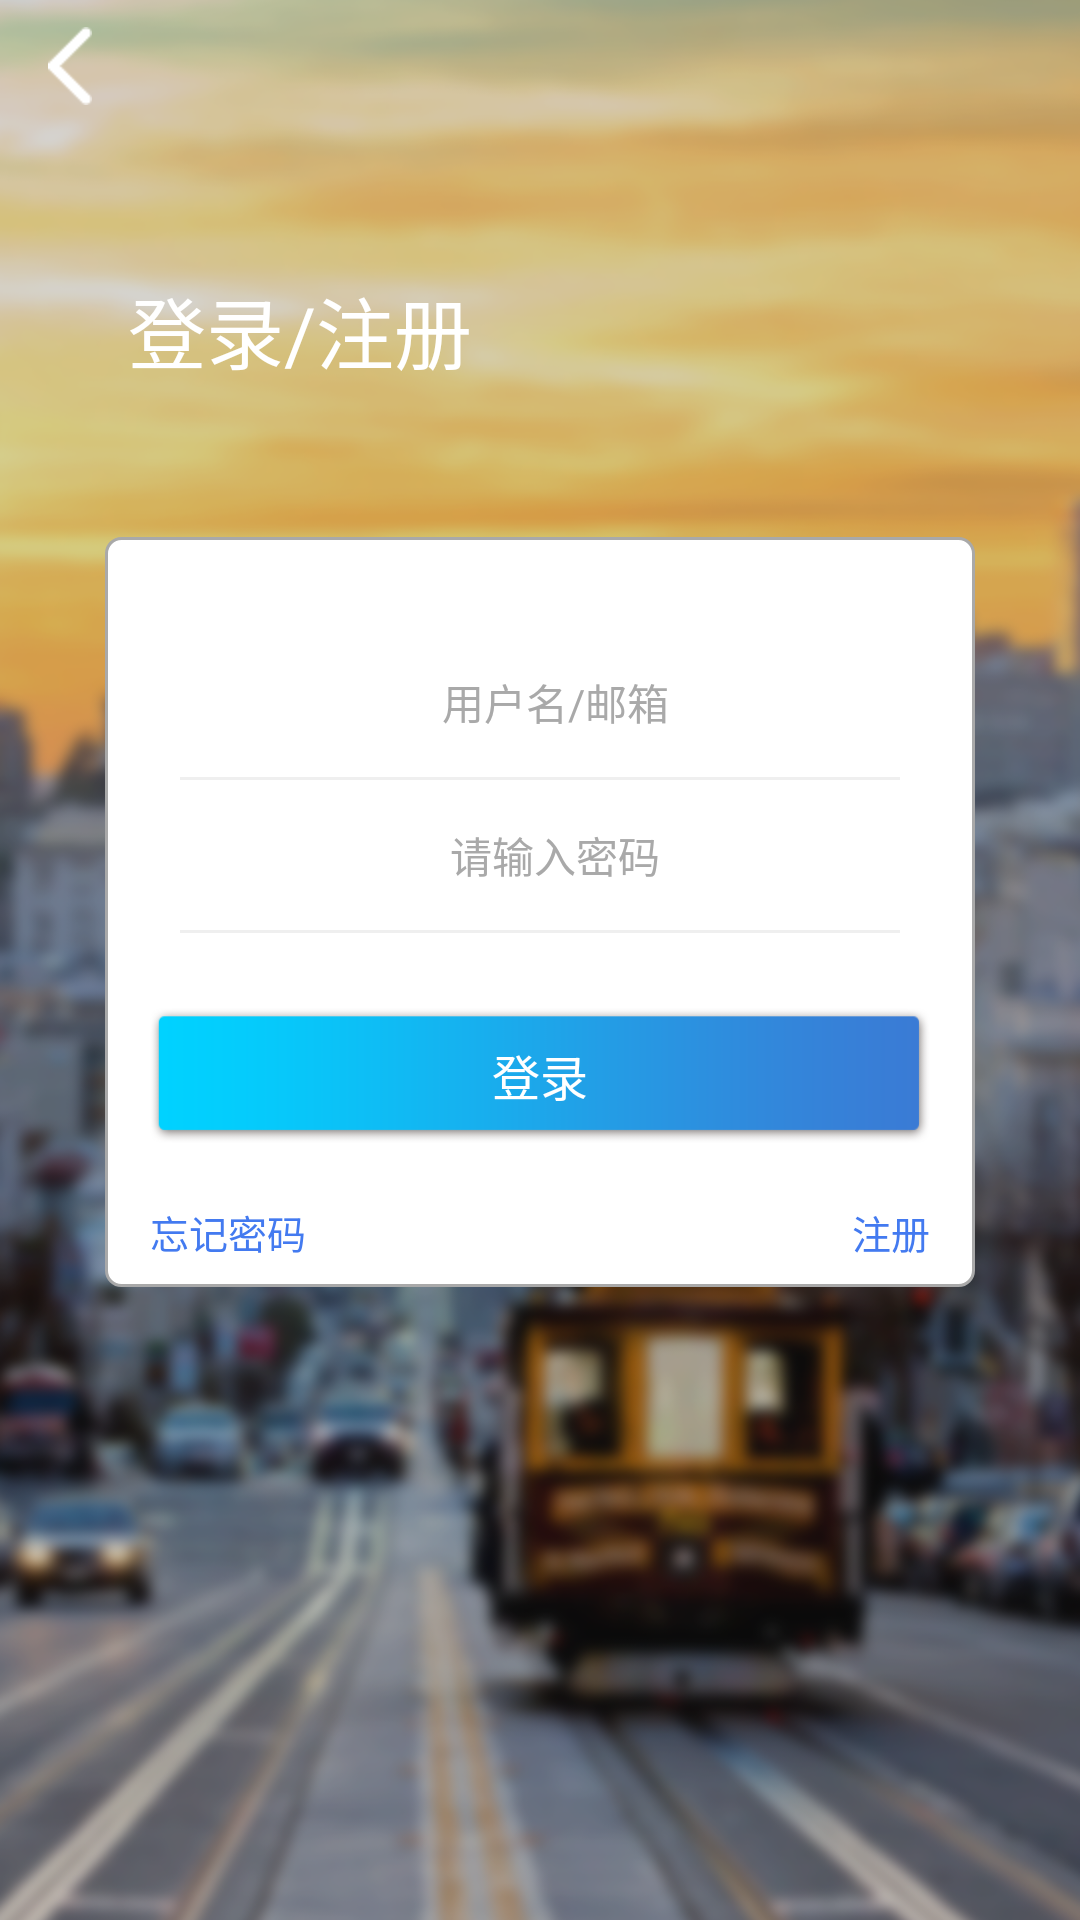

Screen size 1080px x 1920px. Icon name, then its box in pixels as (x1, y1, x2, y2):
back: (48, 27, 92, 105)
